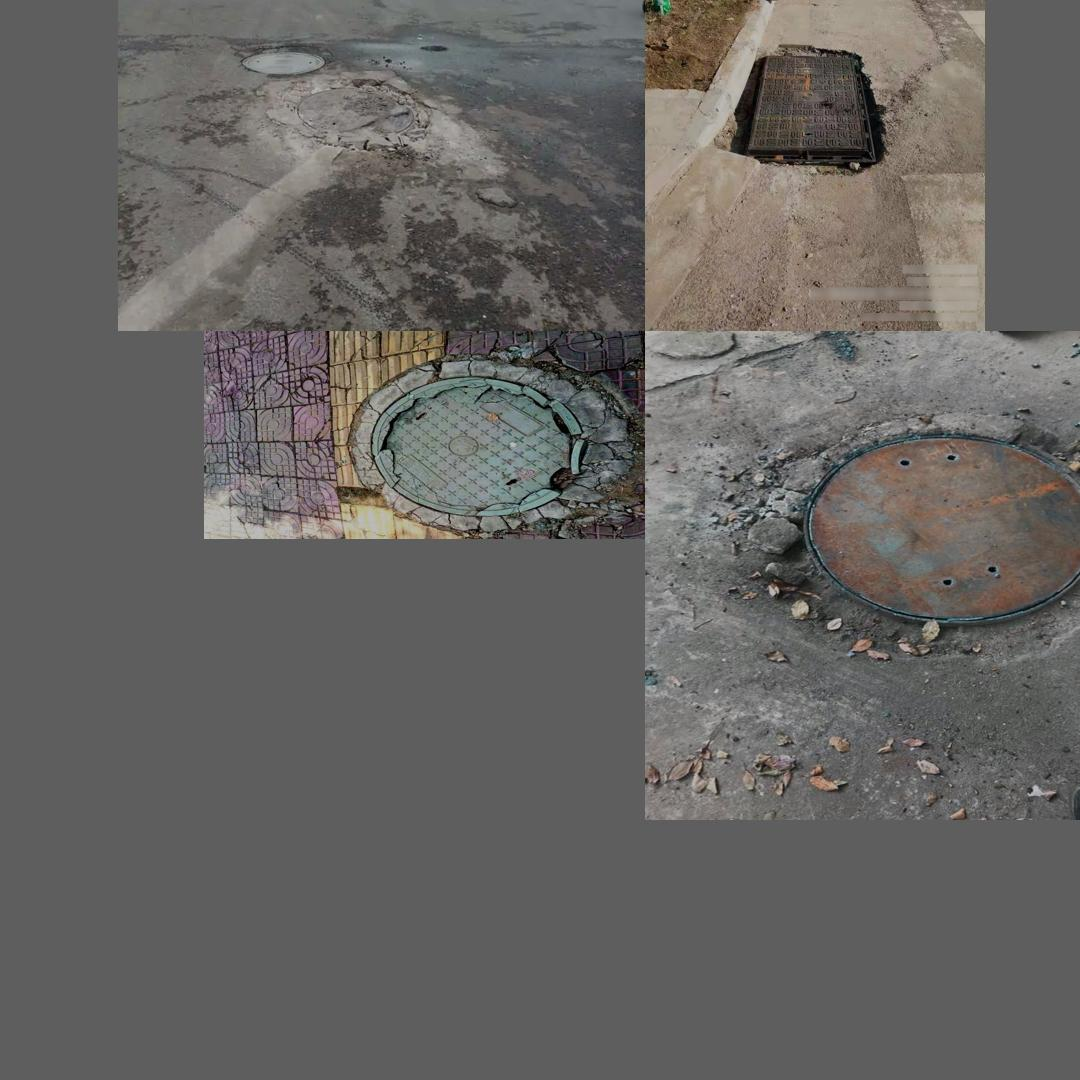circle: (705, 406, 1080, 676), (342, 355, 627, 529), (270, 71, 473, 186), (727, 49, 886, 171)
